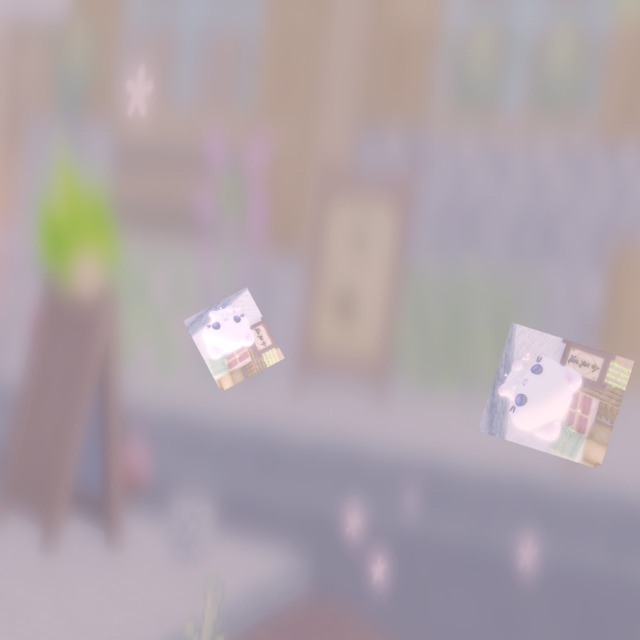urso_branco: (477, 322, 635, 470), (183, 287, 285, 392)
